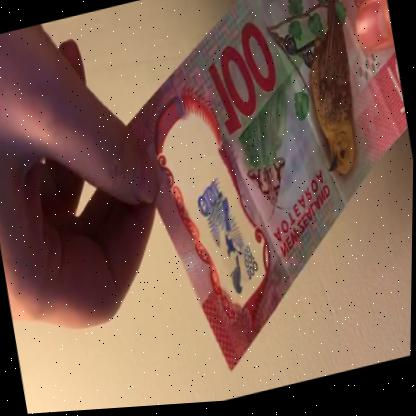100B: (187, 162, 266, 307)
